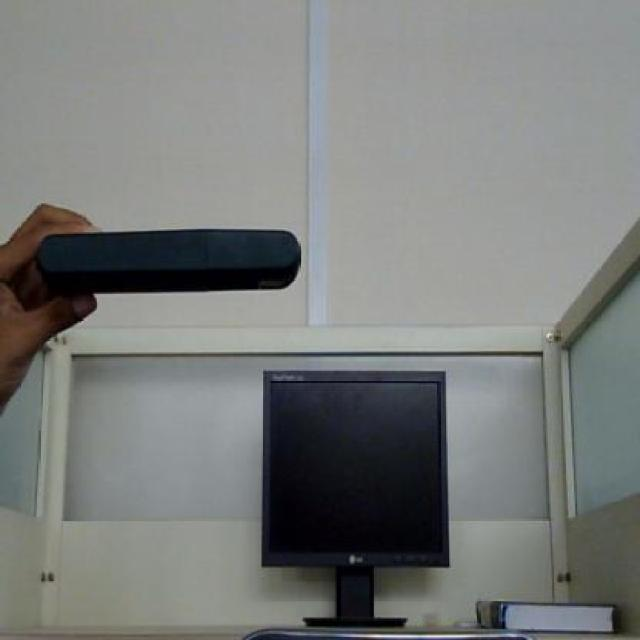Plastic: (30, 223, 307, 302)
